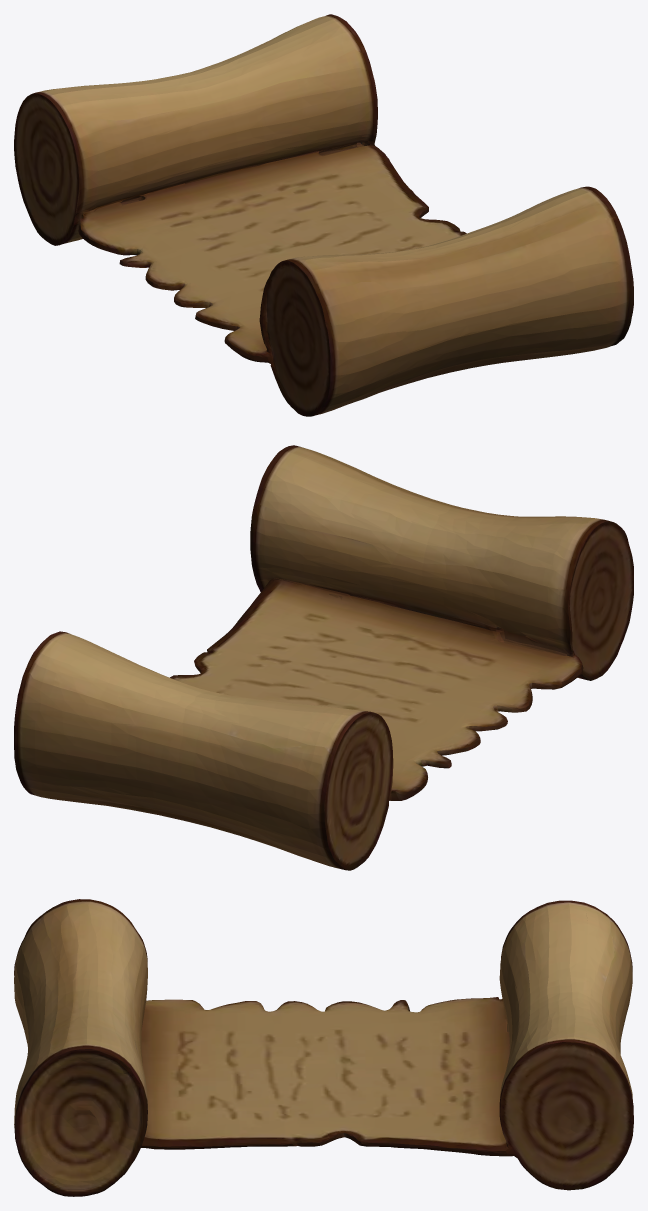
Rendered from open_scroll1.glb.
3 views of the same model, one above another, from view 1: azimuth 30°, elevation 25°; view 2: azimuth 150°, elevation 25°; view 3: azimuth 270°, elevation 25° (orthographic). The views are drawn at different scales.
Parts seen in each view (by area): view 1: world; view 2: world; view 3: world.
Part boxes in pixels (<box>): world: <box>14,14,633,416</box>; world: <box>14,445,633,870</box>; world: <box>14,899,633,1196</box>.
Bounding box in the file's own units: 0.6061 × 0.2705 × 0.9994.
Materials: 1 (1 with a texture image).
